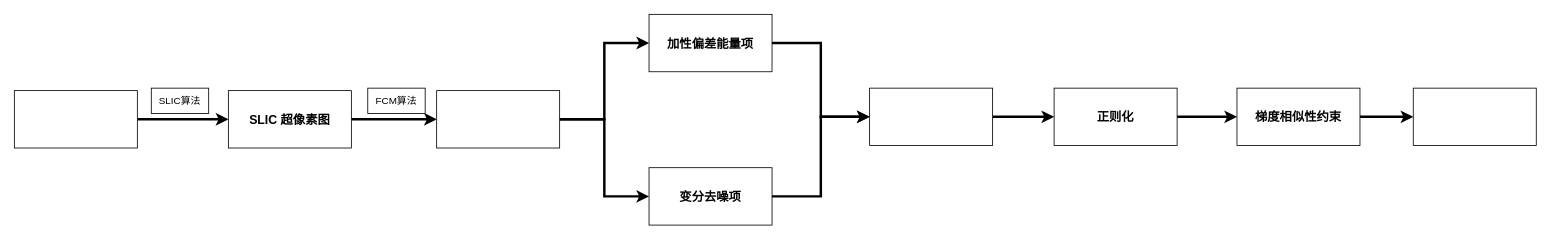
This 1551x239 diagram has some shape labels left out. Here are the shapes that lost their labels. From the top down, the centre of each, then its label:
At point (75, 119): "原始图像".
At point (498, 119): "初始轮廓图".
At point (931, 116): "混合能量项".
At point (1474, 116): "分割结果图".
